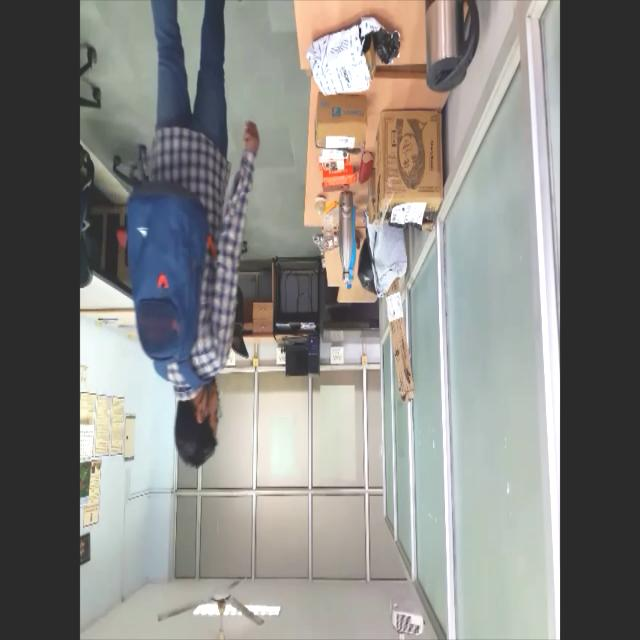normal: (122, 0, 264, 483)
